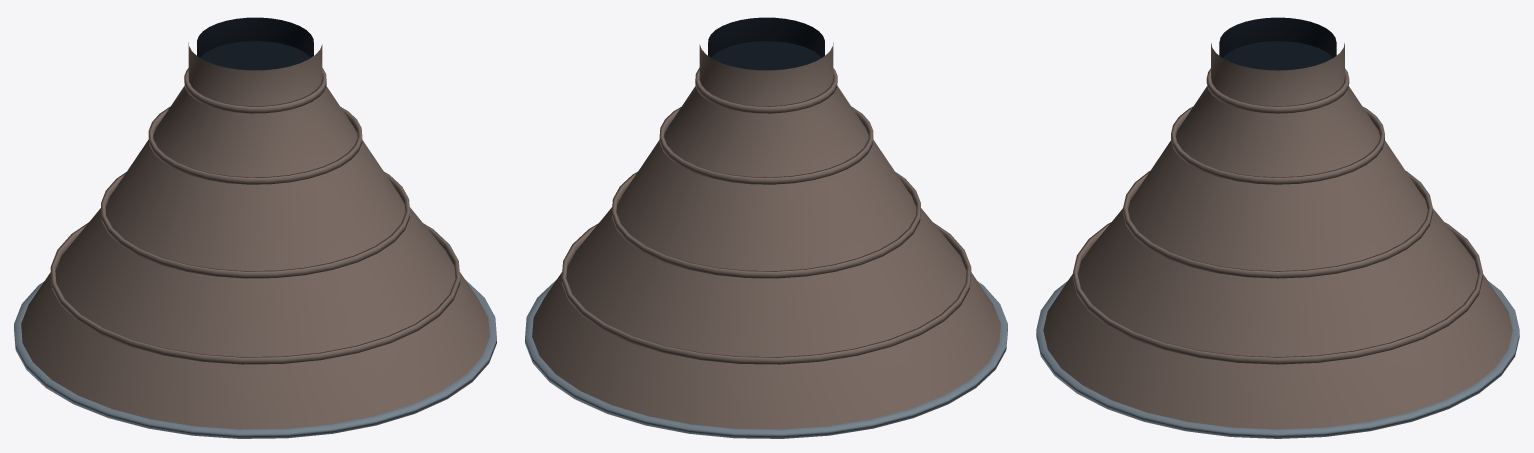
The model's file is voyager_injection_stage.tem_364_4_nozzle.glb.
3 views of the same model, side by side, from view 1: azimuth 30°, elevation 25°; view 2: azimuth 150°, elevation 25°; view 3: azimuth 270°, elevation 25° (orthographic).
Parts seen in each view (by area): view 1: voyager_injection_stage.tem_364_4_nozzle.bell.mesh_Heat-stai, voyager_injection_stage.tem_364_4_nozzle.bell.mesh_Machined_, voyager_injection_stage.tem_364_4_nozzle.bell.mesh_Shadowed_; view 2: voyager_injection_stage.tem_364_4_nozzle.bell.mesh_Heat-stai, voyager_injection_stage.tem_364_4_nozzle.bell.mesh_Machined_, voyager_injection_stage.tem_364_4_nozzle.bell.mesh_Shadowed_; view 3: voyager_injection_stage.tem_364_4_nozzle.bell.mesh_Heat-stai, voyager_injection_stage.tem_364_4_nozzle.bell.mesh_Machined_, voyager_injection_stage.tem_364_4_nozzle.bell.mesh_Shadowed_.
Boxes of the visible parts, box(x1,y1,x2,y2) form: voyager_injection_stage.tem_364_4_nozzle.bell.mesh_Heat-stai: box(21, 42, 489, 429); voyager_injection_stage.tem_364_4_nozzle.bell.mesh_Machined_: box(14, 279, 496, 438); voyager_injection_stage.tem_364_4_nozzle.bell.mesh_Shadowed_: box(197, 17, 313, 70); voyager_injection_stage.tem_364_4_nozzle.bell.mesh_Heat-stai: box(532, 42, 1000, 429); voyager_injection_stage.tem_364_4_nozzle.bell.mesh_Machined_: box(525, 279, 1007, 438); voyager_injection_stage.tem_364_4_nozzle.bell.mesh_Shadowed_: box(708, 17, 824, 70); voyager_injection_stage.tem_364_4_nozzle.bell.mesh_Heat-stai: box(1043, 43, 1512, 429); voyager_injection_stage.tem_364_4_nozzle.bell.mesh_Machined_: box(1036, 281, 1519, 438); voyager_injection_stage.tem_364_4_nozzle.bell.mesh_Shadowed_: box(1219, 17, 1336, 70).
Bounding box in the file's own units: 0.506 × 0.34 × 0.506.
